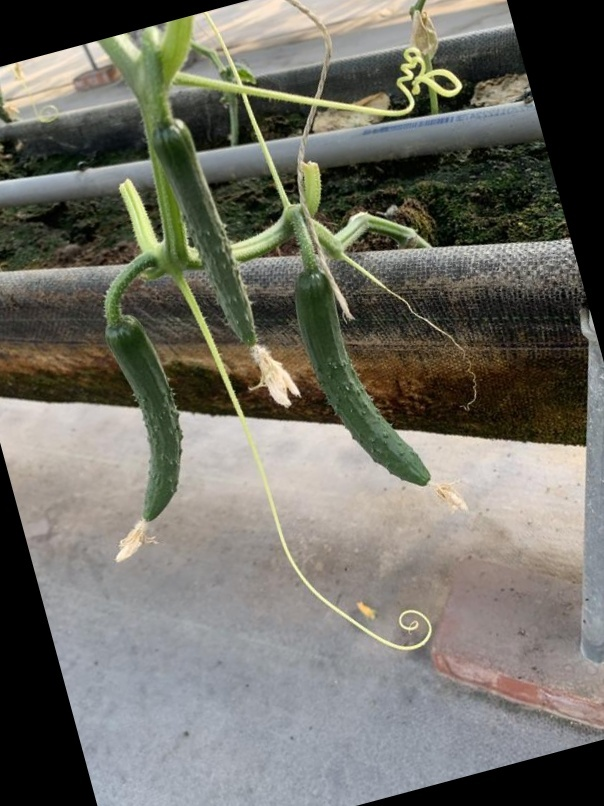growth: (149, 118, 267, 363), (98, 311, 187, 537)
mature: (288, 261, 445, 493)
